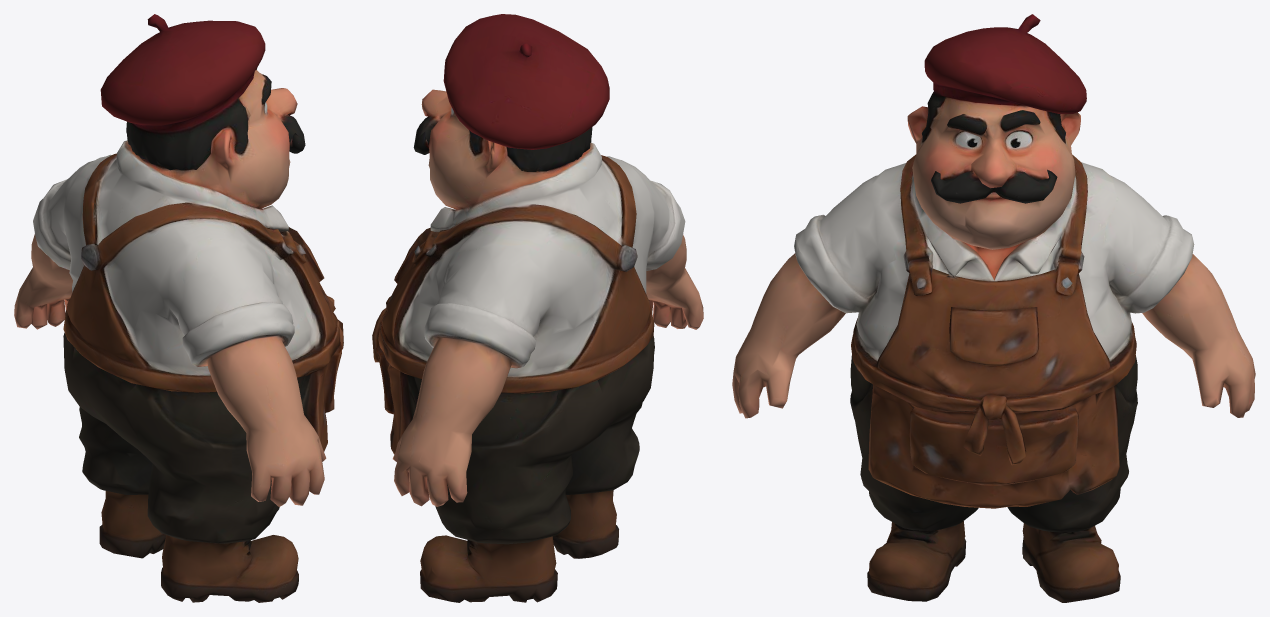
File: asador.glb
The picture shows the model from 3 angles, left to right: view 1: azimuth 30°, elevation 25°; view 2: azimuth 150°, elevation 25°; view 3: azimuth 270°, elevation 25°; orthographic projection. The views are drawn at different scales.
Parts seen in each view (by area): view 1: tripo_node_81603311-75e0-49a2-b769-9279e95ed1d9; view 2: tripo_node_81603311-75e0-49a2-b769-9279e95ed1d9; view 3: tripo_node_81603311-75e0-49a2-b769-9279e95ed1d9.
Part boxes in pixels (x1,y1,x2,y2): tripo_node_81603311-75e0-49a2-b769-9279e95ed1d9: (14,14,343,602); tripo_node_81603311-75e0-49a2-b769-9279e95ed1d9: (372,14,703,602); tripo_node_81603311-75e0-49a2-b769-9279e95ed1d9: (732,14,1255,602).
Bounding box in the file's own units: 0.4837 × 1 × 0.8583.
Materials: 1 (1 with a texture image).
